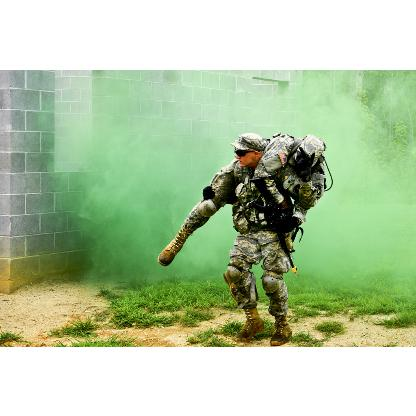gun: (250, 176, 294, 274)
